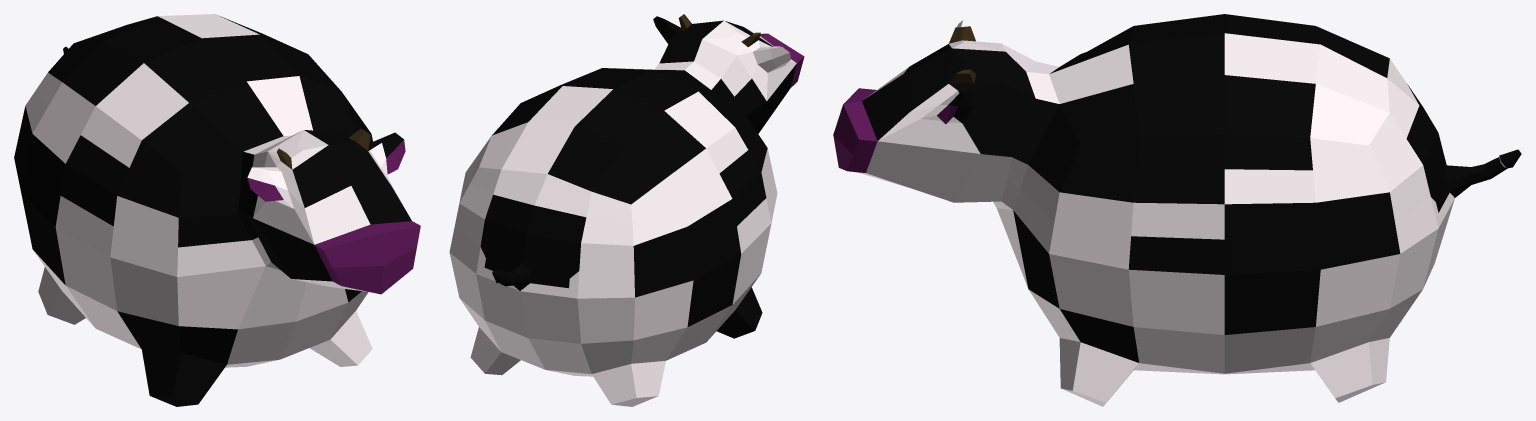
File: cow.gltf
3 renders of one model, left to right at view 1: azimuth 30°, elevation 25°; view 2: azimuth 150°, elevation 25°; view 3: azimuth 270°, elevation 25°, orthographic. The views are drawn at different scales.
Parts seen in each view (by area): view 1: cow; view 2: cow; view 3: cow.
Part boxes in pixels (left/top/right/bottom): cow: left=14, top=14, right=420, bottom=406; cow: left=449, top=14, right=804, bottom=406; cow: left=833, top=14, right=1521, bottom=406.
Bounding box in the file's own units: 0.2962 × 0.2971 × 0.5604.
1 material, 1 textured.
